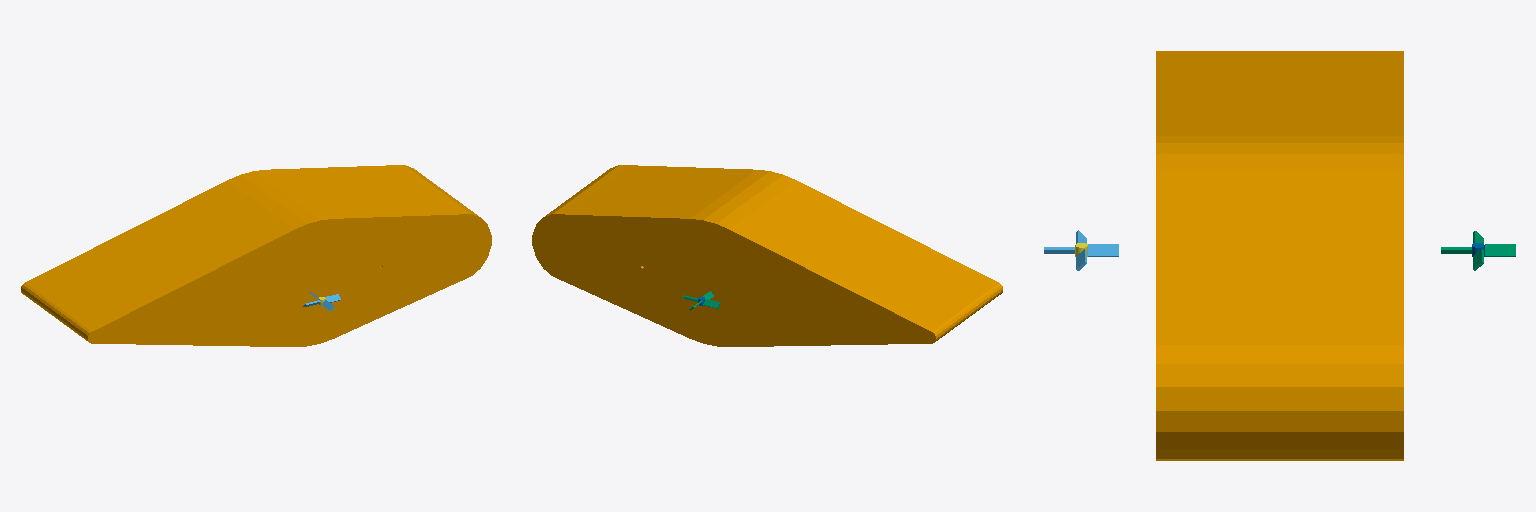
The robot description file, URDF, robot "ghwassa":
<?xml version="1.0"?>
<robot name="ghwassa">

<!-- base link-->
	<link name="base_link">
		<inertial>
			<mass value="300"/>
			<inertia ixx="12.5" ixy="0.0" ixz="0.0" iyy="62.5" iyz="0.0" izz="62.5"/>
		</inertial>
		<visual>
			<origin rpy="0 0 0" xyz="0 0 0"/>
			<geometry>
			<mesh filename="package://ghwassa_description/meshes/body.dae"/>
			<!--<box size="1.5 0.5 0.5"/>-->

			</geometry>
		</visual>
		<collision>
			<origin rpy="0 0 0" xyz="0 0 0"/>
			<geometry>
			<box size="1.5 0.5 0.5"/>
			</geometry>
		</collision>
	</link>
	<gazebo reference="base_link">
		<dampingFactor>0.01</dampingFactor>
		<mu1>0.2</mu1>
		<mu2>0.2</mu2>
		<material>Gazebo/White</material>
	</gazebo>

<!-- right thruster link-->
	<link name="right_thruster">
		<inertial>
			<origin xyz="0 0 0" rpy="0 0 0"/>
			<mass value="0.09"/>
			<inertia ixx="0.00008175" ixy="0" ixz="0" iyy="0.00008175" iyz="0" izz="0.000162" />
		</inertial>
	      
		<visual name="right_blade1_visual">
			<origin xyz="0.035 0.0 0" rpy="0.7853981633974483 0 0"/>
			<geometry>
				<box size="0.05 0.02 0.005"/>
			</geometry>         
		</visual>
		<collision name="right_blade1_collision">
			<origin xyz="0.035 0.0 0" rpy="0.7853981633974483 0 0"/>
			<geometry>
				<box size="0.05 0.02 0.005"/>
			</geometry>
		</collision>
	      
		<visual name="right_blade2_visual">
			<origin xyz="0.0 0.035 0" rpy="0.7853981633974483 0 1.5707963267948966"/>
			<geometry>
				<box size="0.05 0.02 0.005"/>
			</geometry>
		</visual>
		<collision name="right_blade2_collision">
			<origin xyz="0.0 0.035 0" rpy="0.7853981633974483 0 1.5707963267948966"/>
			<geometry>
				<box size="0.05 0.02 0.005"/>
			</geometry>
		</collision>
	      
		<visual name="right_blade3_visual">
			<origin xyz="-0.035 -0.0 0" rpy="-0.7853981633974483 0 0.0"/>
			<geometry>
				<box size="0.05 0.02 0.005"/>
			</geometry>
		</visual>
		<collision name="right_blade3_collision">
			<origin xyz="-0.035 -0.0 0" rpy="-0.7853981633974483 0 0.0"/>
			<geometry>
				<box size="0.05 0.02 0.005"/>
			</geometry>
		</collision>
	      
		<visual name="right_blade4_visual">
			<origin xyz="-0.0 -0.035 0" rpy="-0.7853981633974483 0 1.5707963267948966"/>
			<geometry>
				<box size="0.05 0.02 0.005"/>
			</geometry>
		</visual>
		<collision name="right_blade4_collision">
			<origin xyz="-0.0 -0.035 0" rpy="-0.7853981633974483 0 1.5707963267948966"/>
			<geometry>
				<box size="0.05 0.02 0.005"/>
			</geometry>
		</collision>    
	</link>
	<gazebo reference="right_thruster">
		<mu1>0.2</mu1>
		<mu2>0.2</mu2>
		<material>Gazebo/Red</material>
	</gazebo>

<!-- left thruster link-->
	<link name="left_thruster">
		<inertial>
			<origin xyz="0 0 0" rpy="0 0 0"/>
			<mass value="0.09"/>
			<inertia ixx="0.00008175" ixy="0" ixz="0" iyy="0.00008175" iyz="0" izz="0.000162" />
		</inertial>
		<visual name="left_blade1_visual">
			<origin xyz="0.035 0.0 0" rpy="0.7853981633974483 0 0"/>
			<geometry>
				<box size="0.05 0.02 0.005"/>
			</geometry>         
		</visual>
		<collision name="left_blade1_collision">
			<origin xyz="0.035 0.0 0" rpy="0.7853981633974483 0 0"/>
			<geometry>
				<box size="0.05 0.02 0.005"/>
			</geometry>
		</collision>
	      
		<visual name="left_blade2_visual">
			<origin xyz="0.0 0.035 0" rpy="0.7853981633974483 0 1.5707963267948966"/>
			<geometry>
				<box size="0.05 0.02 0.005"/>
			</geometry>
		</visual>
		<collision name="left_blade2_collision">
			<origin xyz="0.0 0.035 0" rpy="0.7853981633974483 0 1.5707963267948966"/>
			<geometry>
				<box size="0.05 0.02 0.005"/>
			</geometry>
		</collision>
	      
		<visual name="left_blade3_visual">
			<origin xyz="-0.035 -0.0 0" rpy="-0.7853981633974483 0 0.0"/>
			<geometry>
				<box size="0.05 0.02 0.005"/>
			</geometry>
		</visual>
		<collision name="left_blade3_collision">
			<origin xyz="-0.035 -0.0 0" rpy="-0.7853981633974483 0 0.0"/>
			<geometry>
				<box size="0.05 0.02 0.005"/>
			</geometry>
		</collision>
	      
		<visual name="left_blade4_visual">
			<origin xyz="-0.0 -0.035 0" rpy="-0.7853981633974483 0 1.5707963267948966"/>
			<geometry>
				<box size="0.05 0.02 0.005"/>
			</geometry>
		</visual>
		<collision name="left_blade4_collision">
			<origin xyz="-0.0 -0.035 0" rpy="-0.7853981633974483 0 1.5707963267948966"/>
			<geometry>
				<box size="0.05 0.02 0.005"/>
			</geometry>
		</collision>    
	</link>
	<gazebo reference="left_thruster">
		<mu1>0.2</mu1>
		<mu2>0.2</mu2>
		<material>Gazebo/Red</material>
	</gazebo>

<!-- right case thruster link -->
	<link name="right_case_thruster">
		<inertial>
			<mass value="0.005"/>
			<inertia ixx="0.00000029" ixy="0.0" ixz="0.0" iyy="0.00000029" iyz="0.0" izz="0.00000025"/>
		</inertial>
		<visual>
			<origin rpy="0 0 0" xyz="0 0 0"/>
			<geometry>
				<cylinder length="0.02" radius="0.01"/>
			</geometry>
		</visual>
		<collision>
			<origin rpy="0 0 0" xyz="0 0 0"/>
			<geometry>
			<cylinder length="0.02" radius="0.01"/>
			</geometry>
		</collision>
	</link>
	<gazebo reference="right_case_thruster">
		<mu1>0.2</mu1>
		<mu2>0.2</mu2>
		<material>Gazebo/Blue</material>
	</gazebo>

<!-- left case thruster link -->
	<link name="left_case_thruster">
		<inertial>
			<mass value="0.005"/>
			<inertia ixx="0.00000029" ixy="0.0" ixz="0.0" iyy="0.00000029" iyz="0.0" izz="0.00000025"/>
		</inertial>
		<visual>
			<origin rpy="0 0 0" xyz="0 0 0"/>
			<geometry>
			<cylinder length="0.02" radius="0.01"/>
			</geometry>
		</visual>
		<collision>
			<origin rpy="0 0 0" xyz="0 0 0"/>
			<geometry>
			<cylinder length="0.02" radius="0.01"/>
			</geometry>
		</collision>
	</link>
	<gazebo reference="left_case_thruster">
		<mu1>0.2</mu1>
		<mu2>0.2</mu2>
		<material>Gazebo/Blue</material>
	</gazebo>

<!-- joints -->
	  <joint name="base_to_right_thruster" type="revolute">
		  <parent link="right_case_thruster"/>
		  <child link="right_thruster"/>
		  <origin xyz="0 0 0" rpy="0 0 0" />    
		  <axis xyz="0 0 1" />
		  <dynamics damping="0.01" friction="0.0"/>
		  <limit lower="-1e+12" upper="1e+12" effort="50" velocity="300"/>
	  </joint>

	  <joint name="base_to_left_thruster" type="revolute">
		  <parent link="left_case_thruster"/>
		  <child link="left_thruster"/>
		  <origin xyz="0 0 0" rpy="0 0 0" />
		  <axis xyz="0 0 1" />
		  <dynamics damping="0.01" friction="0.0"/>  <!-- play with this value-->
		  <limit lower="-1e+12" upper="1e+12" effort="50" velocity="300"/>
	  </joint>

	  <joint name="base_to_right_case_thruster" type="revolute">
		  <parent link="base_link"/>
		  <child link="right_case_thruster"/>
		  <origin xyz="0 -0.32 0" rpy="0 0 0" />
		  <axis xyz="0 1 0" />
		  <dynamics damping="0.1" friction="0.0"/>
		  <limit lower="-3.14" upper="3.14" effort="50" velocity="0.5"/>
	  </joint>

	  <joint name="base_to_left_case_thruster" type="revolute">
		  <parent link="base_link"/>
		  <child link="left_case_thruster"/>
		  <origin xyz="0 0.32 0" rpy="0 0 0" />
			<axis xyz="0 1 0" />
		  <dynamics damping="0.1" friction="0.0"/>
		  <limit lower="-3.14" upper="3.14" effort="50" velocity="0.5"/>
	  </joint>

<!-- transmission -->
	<transmission name="trans1">
		<type>transmission_interface/SimpleTransmission</type>
		<joint name="base_to_right_thruster">
			<hardwareInterface>hardware_interface/EffortJointInterface</hardwareInterface>
		</joint>
		<actuator name="motor1">
			<mechanicalReduction>50</mechanicalReduction>
			<hardwareInterface>hardware_interface/EffortJointInterface</hardwareInterface>
		</actuator>
	</transmission>

	<transmission name="trans2">
		<type>transmission_interface/SimpleTransmission</type>
		<joint name="base_to_left_thruster">
			<hardwareInterface>hardware_interface/EffortJointInterface</hardwareInterface>
		</joint>
		<actuator name="motor2">
			<mechanicalReduction>50</mechanicalReduction>
			<hardwareInterface>hardware_interface/EffortJointInterface</hardwareInterface>
		</actuator>
	</transmission>
	<transmission name="trans3">
		<type>transmission_interface/SimpleTransmission</type>
		<joint name="base_to_right_case_thruster">
			<hardwareInterface>hardware_interface/EffortJointInterface</hardwareInterface>
		</joint>
		<actuator name="motor3">
			<mechanicalReduction>50</mechanicalReduction>
			<hardwareInterface>hardware_interface/EffortJointInterface</hardwareInterface>
		</actuator>
	</transmission>
	<transmission name="trans4">
		<type>transmission_interface/SimpleTransmission</type>
		<joint name="base_to_left_case_thruster">
			<hardwareInterface>hardware_interface/EffortJointInterface</hardwareInterface>
		</joint>
		<actuator name="motor4">
			<mechanicalReduction>50</mechanicalReduction>
			<hardwareInterface>hardware_interface/EffortJointInterface</hardwareInterface>
		</actuator>
	</transmission>

<!-- plugins -->
	<gazebo>
		<plugin name="BuoyancyPlugin" filename="libBuoyancyPlugin.so">
			<fluid_density>800</fluid_density>
		</plugin>

		<plugin name="right_submarine_propeller_1" filename="libLiftDragPlugin.so">
			<air_density>800</air_density>
			<cla>1.2535816618911175</cla>
			<cla_stall>-1.4326647564469914</cla_stall>
			<cda>0</cda>
			<cda_stall>1.4326647564469914</cda_stall>
			<alpha_stall>1.396</alpha_stall>
			<a0>0</a0>

			<area>0.001</area>
			<upward>0 -1 1</upward>
			<forward>0 1 1</forward>
			<link_name>right_thruster</link_name>
			<cp>0.035 0 0</cp>
		</plugin>

		<plugin name="right_submarine_propeller_2" filename="libLiftDragPlugin.so">
			<air_density>800</air_density>
			<cla>1.2535816618911175</cla>
			<cla_stall>-1.4326647564469914</cla_stall>
			<cda>0</cda>
			<cda_stall>1.4326647564469914</cda_stall>
			<alpha_stall>1.396</alpha_stall>
			<a0>0</a0>

			<area>0.001</area>
			<upward>1 0 1</upward>
			<forward>-1 0 1</forward>
			<link_name>right_thruster</link_name>
			<cp>0 0.035 0</cp>
		</plugin>

		<plugin name="right_submarine_propeller_3" filename="libLiftDragPlugin.so">
			<air_density>800</air_density>
			<cla>1.2535816618911175</cla>
			<cla_stall>-1.4326647564469914</cla_stall>
			<cda>0</cda>
			<cda_stall>1.4326647564469914</cda_stall>
			<alpha_stall>1.396</alpha_stall>
			<a0>0</a0>

			<area>0.001</area>
			<upward>0 1 1</upward>
			<forward>0 -1 1</forward>
			<link_name>right_thruster</link_name>
			<cp>-0.035 0 0</cp>
		</plugin>

		<plugin name="right_submarine_propeller_4" filename="libLiftDragPlugin.so">
			<air_density>800</air_density>
			<cla>1.2535816618911175</cla>
			<cla_stall>-1.4326647564469914</cla_stall>
			<cda>0</cda>
			<cda_stall>1.4326647564469914</cda_stall>
			<alpha_stall>1.396</alpha_stall>
			<a0>0</a0>

			<area>0.001</area>
			<upward>1 0 1</upward>
			<forward>-1 0 1</forward>
			<link_name>right_thruster</link_name>
			<cp>0 -0.035 0</cp>
		</plugin>

		<plugin name="left_submarine_propeller_1" filename="libLiftDragPlugin.so">
			<air_density>800</air_density>
			<cla>1.2535816618911175</cla>
			<cla_stall>-1.4326647564469914</cla_stall>
			<cda>0</cda>
			<cda_stall>1.4326647564469914</cda_stall>
			<alpha_stall>1.396</alpha_stall>
			<a0>0</a0>

			<area>0.001</area>
			<upward>0 -0.7071067811865476 0.7071067811865475</upward>
			<forward>0 0.7071067811865475 0.7071067811865476</forward>
			<link_name>left_thruster</link_name>
			<cp>0.035 0 0</cp>
		</plugin>

		<plugin name="left_submarine_propeller_2" filename="libLiftDragPlugin.so">
			<air_density>800</air_density>
			<cla>1.2535816618911175</cla>
			<cla_stall>-1.4326647564469914</cla_stall>
			<cda>0</cda>
			<cda_stall>1.4326647564469914</cda_stall>
			<alpha_stall>1.396</alpha_stall>
			<a0>0</a0>

			<area>0.001</area>
			<upward>0.7071067811865476 0 0.7071067811865475</upward>
			<forward>-0.7071067811865475 0 0.7071067811865476</forward>
			<link_name>left_thruster</link_name>
			<cp>0 0.035 0</cp>
		</plugin>

		<plugin name="left_submarine_propeller_3" filename="libLiftDragPlugin.so">
			<air_density>800</air_density>
			<cla>1.2535816618911175</cla>
			<cla_stall>-1.4326647564469914</cla_stall>
			<cda>0</cda>
			<cda_stall>1.4326647564469914</cda_stall>
			<alpha_stall>1.396</alpha_stall>
			<a0>0</a0>

			<area>0.001</area>
			<upward>0 0.7071067811865475 0.7071067811865476</upward>
			<forward>0 -0.7071067811865476 0.7071067811865475</forward>
			<link_name>left_thruster</link_name>
			<cp>-0.035 0 0</cp>
		</plugin>

		<plugin name="left_submarine_propeller_4" filename="libLiftDragPlugin.so">
			<air_density>800</air_density>
			<cla>1.2535816618911175</cla>
			<cla_stall>-1.4326647564469914</cla_stall>
			<cda>0</cda>
			<cda_stall>1.4326647564469914</cda_stall>
			<alpha_stall>1.396</alpha_stall>
			<a0>0</a0>

			<area>0.001</area>
			<upward>0.7071067811865475 0 0.7071067811865476</upward>
			<forward>-0.7071067811865476 0 0.7071067811865475</forward>
			<link_name>left_thruster</link_name>
			<cp>0 -0.035 0</cp>
		</plugin>

		<plugin name="gazebo_ros_control" filename="libgazebo_ros_control.so">
			<robotNamespace>/ghwassa</robotNamespace>
		</plugin>
	</gazebo>
</robot>

--- Render facts (derived) ---
3 views of the same robot in one strip: view 1: azimuth 30°, elevation 25°; view 2: azimuth 150°, elevation 25°; view 3: azimuth 270°, elevation 25° (orthographic).
Robot: ghwassa — 5 links, 4 joints (4 revolute); root link base_link; default pose: all joints at 0.
Visible links, largest first — view 1: base_link; view 2: base_link; view 3: base_link, right_thruster, left_thruster.
Link boxes in pixels (x1=…): base_link: x1=21, y1=165, x2=491, y2=346; base_link: x1=532, y1=165, x2=1002, y2=346; base_link: x1=1156, y1=51, x2=1403, y2=460; right_thruster: x1=1044, y1=230, x2=1118, y2=270; left_thruster: x1=1441, y1=231, x2=1515, y2=270.
Size in the robot's own frame: 1.39 by 0.76 by 0.4044 metres.
1 mesh visuals loaded from 1 distinct referenced files (1 Collada DAE).
